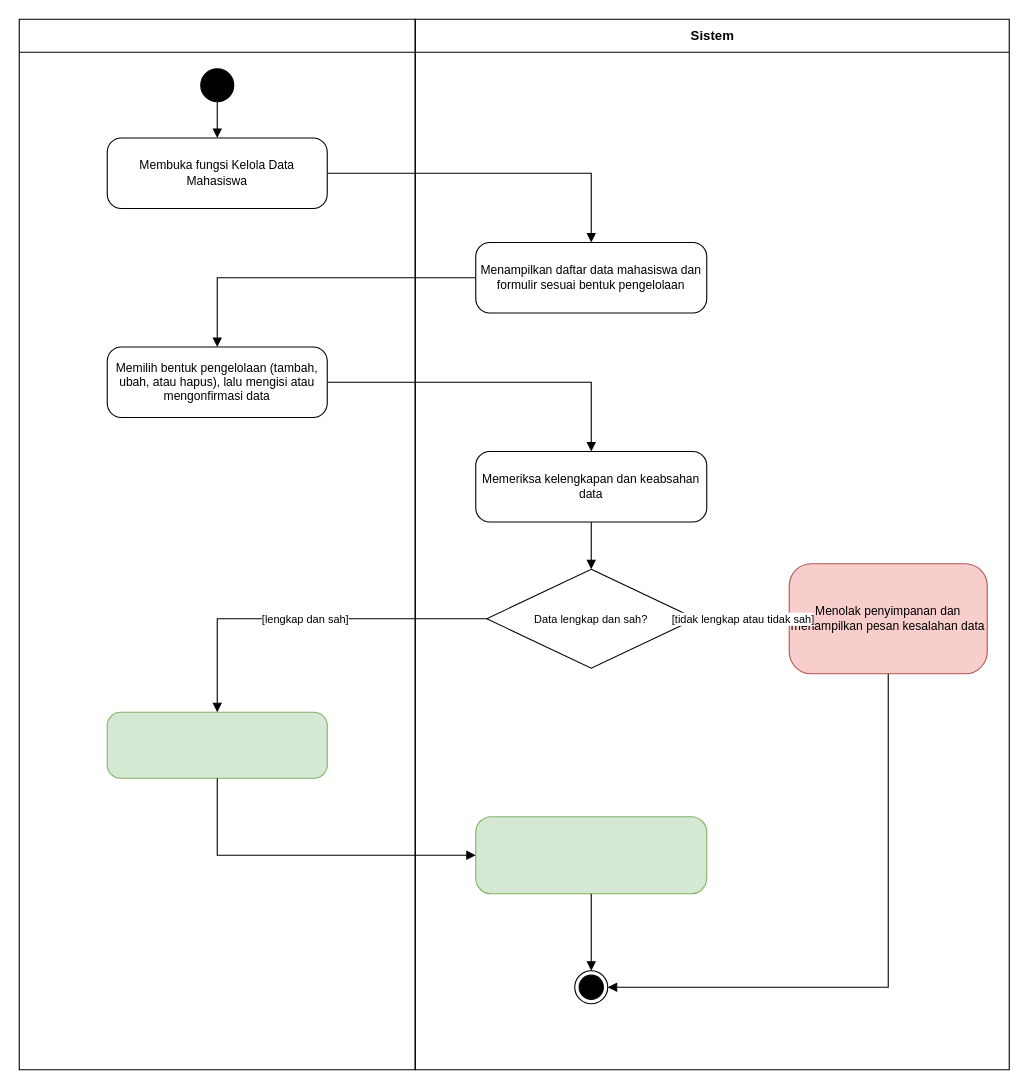
This 1029x1089 diagram has some shape labels left out. The box of each missing label's shape, as (x1, y1, x2, y2) in pixels:
Admin Akademik: (18, 18, 415, 1070)
Menyimpan perubahan: (106, 711, 327, 778)
Menyimpan perubahan dan menampilkan konfirmasi: (475, 816, 707, 894)
